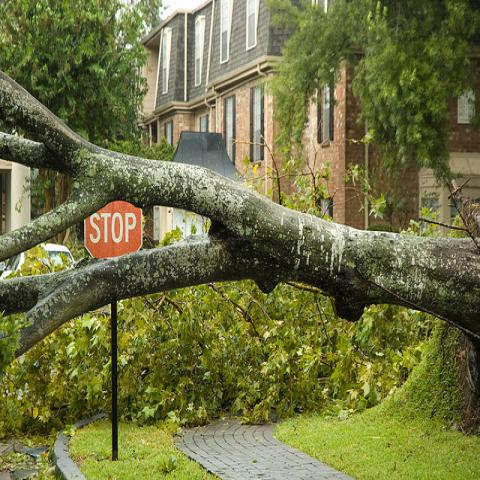car: (0, 244, 76, 276)
